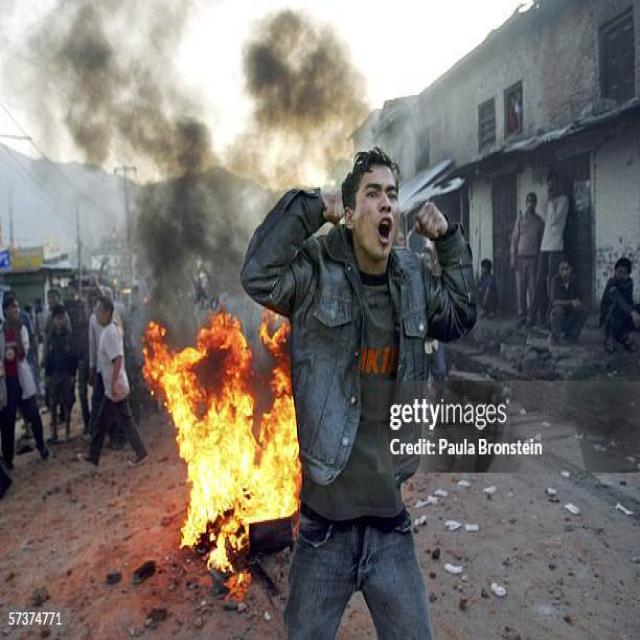fire: (141, 307, 302, 602)
